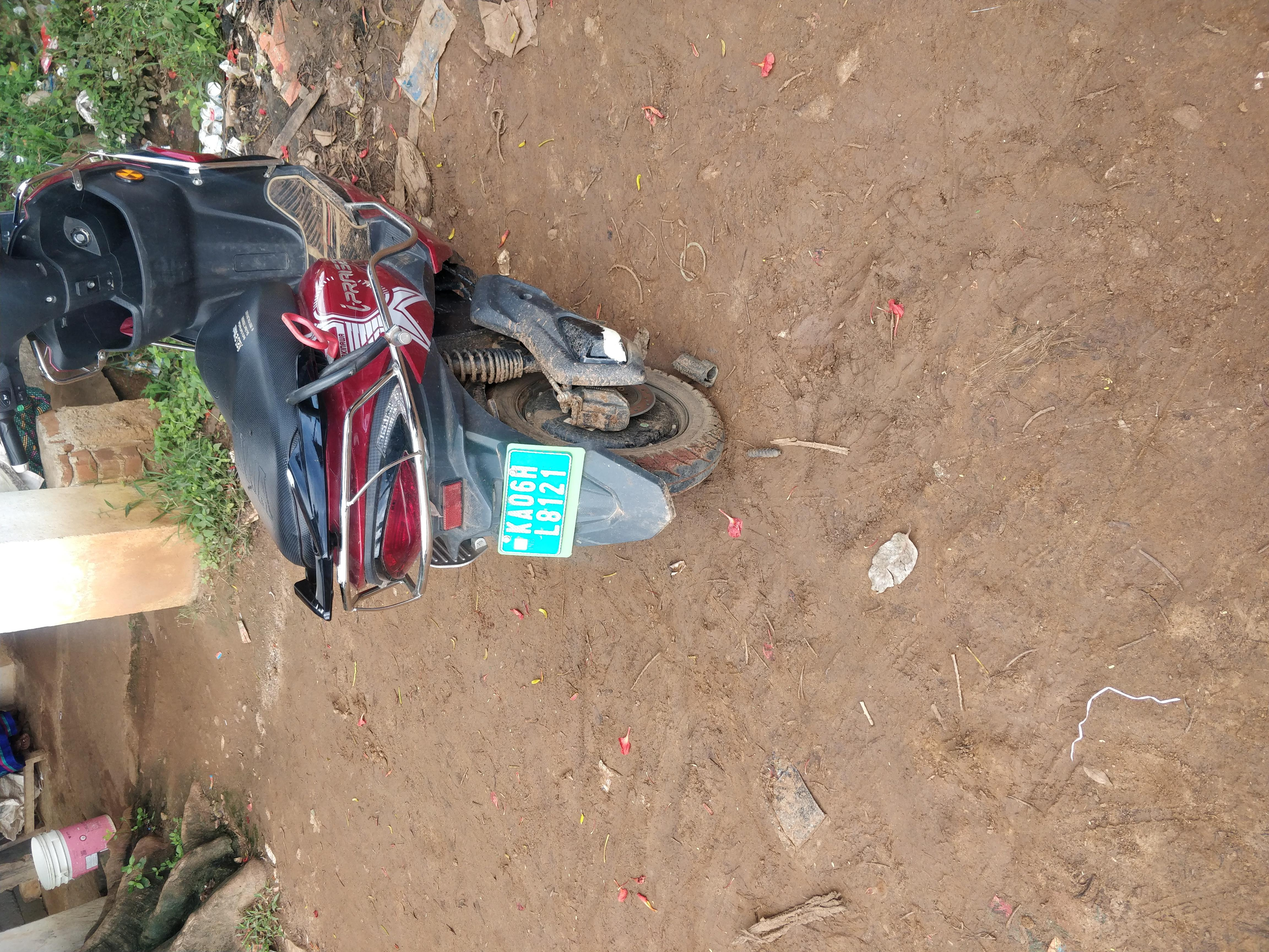green license plate: (520, 367, 688, 435)
